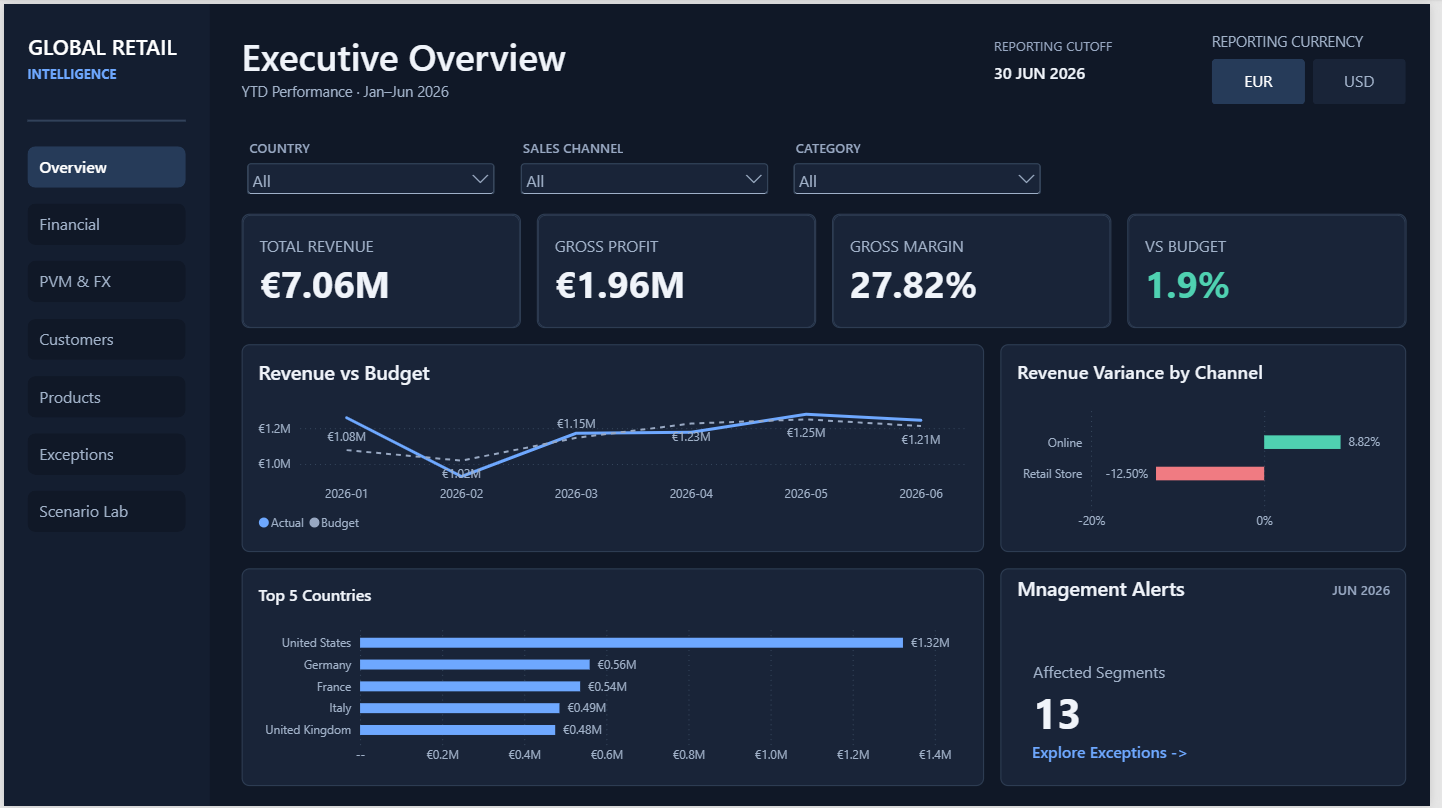

What the dashboard file says about the page in this screenshot:
{"tool":"powerbi","page":{"name":"Overview","canvas":[1440,810],"ordinal":0},"visuals":[{"type":"shape","title":"Sidebar Background","box":[0,0,208,810],"z":0},{"type":"textbox","title":"Sidebar Brand Title","box":[24.1,28,168,30],"z":1000},{"type":"textbox","title":"Sidebar Brand Subtitle","box":[24,60,168,22],"z":2000},{"type":"shape","title":"Line","box":[24,112,160,12],"z":3000},{"type":"pageNavigator","box":[24,144,160,392],"z":4000},{"type":"textbox","title":"Header Page Title","box":[239.8,27.9,649.6,53.3],"z":5000},{"type":"textbox","title":"Header Subtitle","box":[240,78,650,28],"z":6000},{"type":"textbox","box":[1000,32,190,24],"z":7000},{"type":"textbox","box":[1000,58,190,32],"z":8000},{"type":"textbox","box":[1220,28,196,24],"z":9000},{"type":"advancedSlicerVisual","title":"Header Currency Selector","fields":{"Values":["Reporting Currency.Reporting Currency"]},"box":[1220,55,196,46],"z":10000},{"type":"slicer","fields":{"Values":["DimCountry.country_name"]},"box":[240,136,260,56],"z":11000},{"type":"slicer","fields":{"Values":["DimSalesChannel.sales_channel_name"]},"box":[516,136,260,56],"z":12000},{"type":"slicer","fields":{"Values":["DimCategory.category_name"]},"box":[792,136,260,56],"z":13000},{"type":"cardVisual","fields":{"Data":["_Measures.Global Revenue USD"]},"box":[240,212,282,116],"z":14000},{"type":"cardVisual","fields":{"Data":["_Measures.Global Gross Profit USD"]},"box":[538,212,282,116],"z":15000},{"type":"cardVisual","fields":{"Data":["_Measures.Global Gross Margin %"]},"box":[836,212,282,116],"z":16000},{"type":"cardVisual","fields":{"Data":["_Measures.Revenue vs Budget Variance YTD %"]},"box":[1134.7,212,282,116],"z":17000},{"type":"lineChart","title":"Revenue vs Budget","fields":{"Category":["DimDate.YearMonth"],"Y":["_Measures.Global Revenue USD","_Measures.Budget Revenue USD"]},"box":[240,344,750,210],"z":18000},{"type":"clusteredBarChart","title":"Revenue Variance by Channel","fields":{"Category":["DimSalesChannel.sales_channel_name"],"Y":["_Measures.Revenue vs Budget Variance YTD %"]},"box":[1006,344,410,210],"z":19000},{"type":"clusteredBarChart","title":"Top 5 Countries","fields":{"Category":["DimCountry.country_name"],"Y":["_Measures.Global Revenue USD"]},"box":[240,570,750.3,220],"z":20000},{"type":"cardVisual","title":"Mnagement Alerts","fields":{"Data":["_Measures.Management Exception Affected Segments"]},"box":[1006,570,410,220],"z":21000},{"type":"textbox","box":[1300,582,100,24],"z":22000},{"type":"actionButton","box":[1026,738,220,36],"z":23000}]}

Visuals, with their boxes in screenshot pixels (x1, y1, x2, y2), scaled from the page's 1440x810 canvas onto the 1442x808 screenshot:
"Sidebar Background" shape: {"left": 0, "top": 0, "right": 208, "bottom": 807}
"Sidebar Brand Title" textbox: {"left": 24, "top": 28, "right": 192, "bottom": 58}
"Sidebar Brand Subtitle" textbox: {"left": 24, "top": 60, "right": 192, "bottom": 82}
"Line" shape: {"left": 24, "top": 112, "right": 184, "bottom": 124}
pageNavigator: {"left": 24, "top": 144, "right": 184, "bottom": 535}
"Header Page Title" textbox: {"left": 240, "top": 28, "right": 891, "bottom": 81}
"Header Subtitle" textbox: {"left": 240, "top": 78, "right": 891, "bottom": 106}
textbox: {"left": 1001, "top": 32, "right": 1192, "bottom": 56}
textbox: {"left": 1001, "top": 58, "right": 1192, "bottom": 90}
textbox: {"left": 1222, "top": 28, "right": 1418, "bottom": 52}
"Header Currency Selector" advancedSlicerVisual: {"left": 1222, "top": 55, "right": 1418, "bottom": 101}
slicer - DimCountry.country_name: {"left": 240, "top": 136, "right": 501, "bottom": 192}
slicer - DimSalesChannel.sales_channel_name: {"left": 517, "top": 136, "right": 777, "bottom": 192}
slicer - DimCategory.category_name: {"left": 793, "top": 136, "right": 1053, "bottom": 192}
cardVisual - _Measures.Global Revenue USD: {"left": 240, "top": 211, "right": 523, "bottom": 327}
cardVisual - _Measures.Global Gross Profit USD: {"left": 539, "top": 211, "right": 821, "bottom": 327}
cardVisual - _Measures.Global Gross Margin %: {"left": 837, "top": 211, "right": 1120, "bottom": 327}
cardVisual - _Measures.Revenue vs Budget Variance YTD %: {"left": 1136, "top": 211, "right": 1419, "bottom": 327}
"Revenue vs Budget" lineChart: {"left": 240, "top": 343, "right": 991, "bottom": 553}
"Revenue Variance by Channel" clusteredBarChart: {"left": 1007, "top": 343, "right": 1418, "bottom": 553}
"Top 5 Countries" clusteredBarChart: {"left": 240, "top": 569, "right": 992, "bottom": 788}
"Mnagement Alerts" cardVisual: {"left": 1007, "top": 569, "right": 1418, "bottom": 788}
textbox: {"left": 1302, "top": 581, "right": 1402, "bottom": 605}
actionButton: {"left": 1027, "top": 736, "right": 1248, "bottom": 772}
